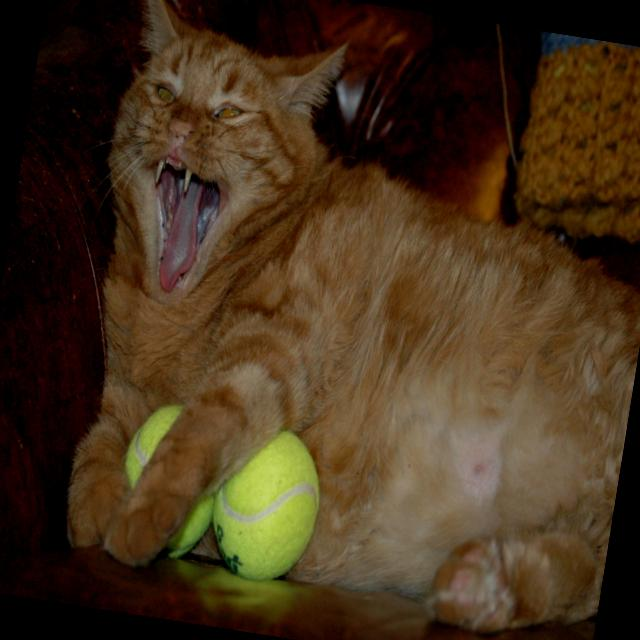Tennis Ball: (204, 422, 330, 589), (108, 397, 226, 566)
